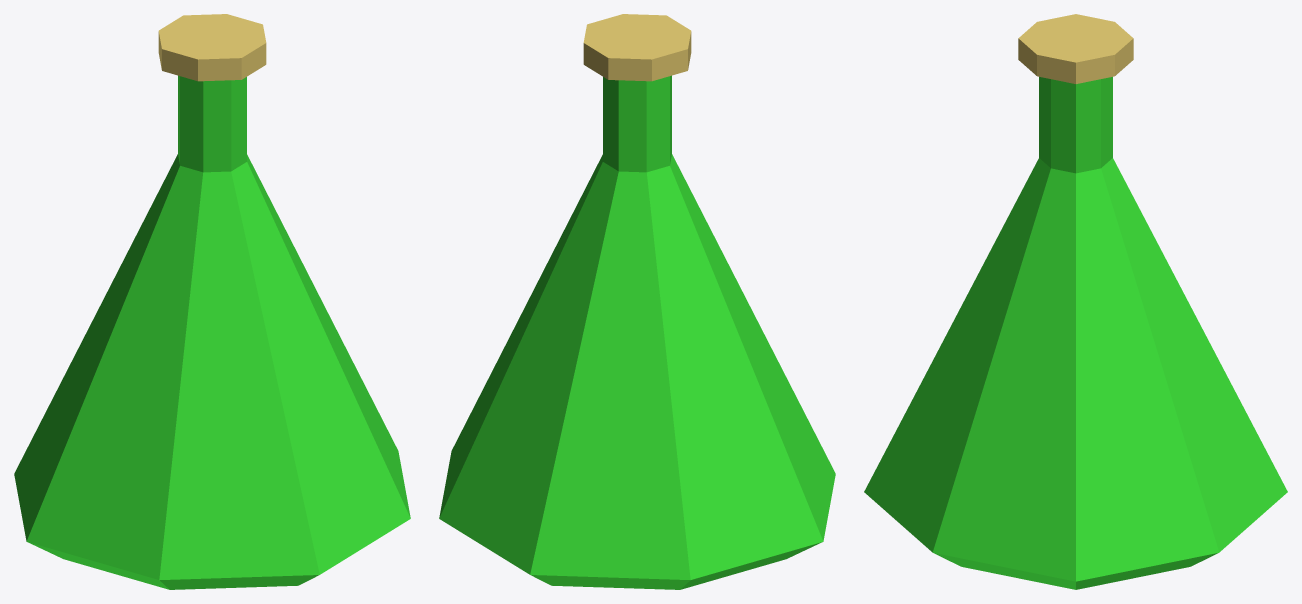
Rendered from potion.glb.
The picture shows the model from 3 angles, left to right: view 1: azimuth 30°, elevation 25°; view 2: azimuth 150°, elevation 25°; view 3: azimuth 270°, elevation 25°; orthographic projection.
Parts seen in each view (by area): view 1: Liquid; view 2: Liquid; view 3: Liquid.
Boxes of the visible parts, bbox=[...] form: Liquid: bbox=[14, 14, 410, 589]; Liquid: bbox=[439, 14, 835, 589]; Liquid: bbox=[864, 14, 1287, 589].
Size of the model in its own units: 0.9315 by 1.16 by 0.9315.
